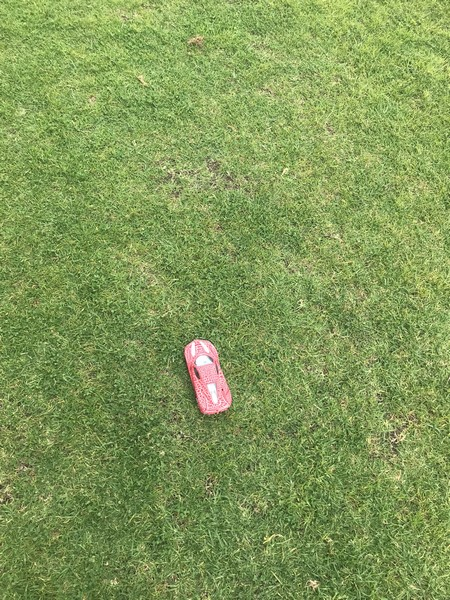RC: (183, 339, 236, 417)
